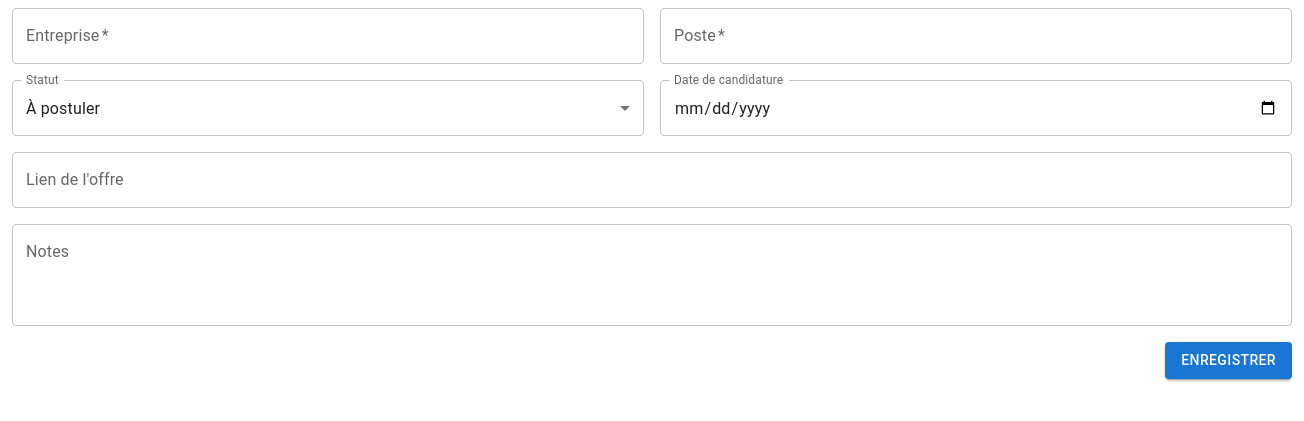
ApplicationForm › bloque l'envoi si les champs obligatoires sont vides
Click the button "Enregistrer".
click(1229, 360)  # box x1=1165 y1=342 x2=1292 y2=378
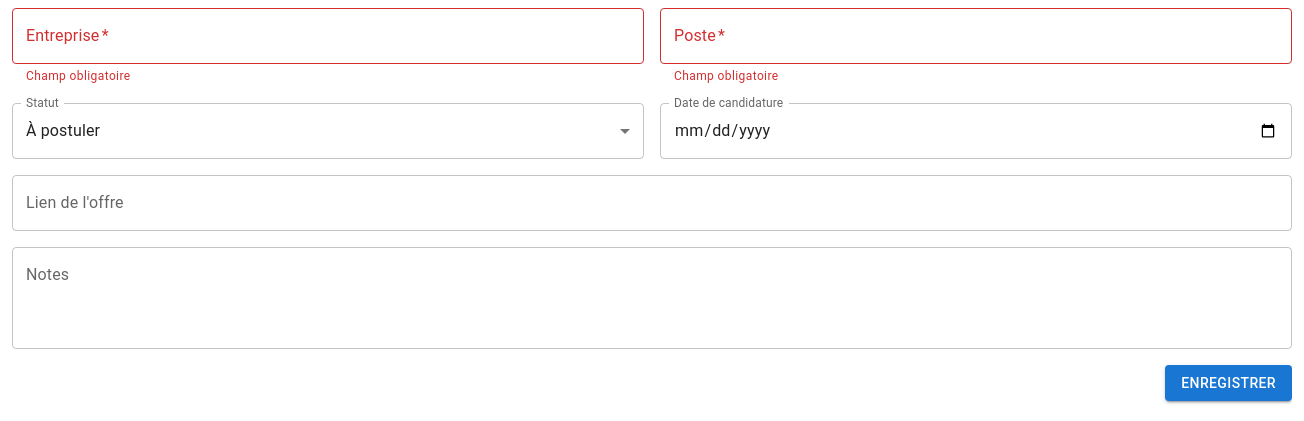
expect the text "Champ obligatoire" is shown 2 times: met, box x1=26 y1=69 x2=131 y2=83; x1=674 y1=69 x2=779 y2=83
